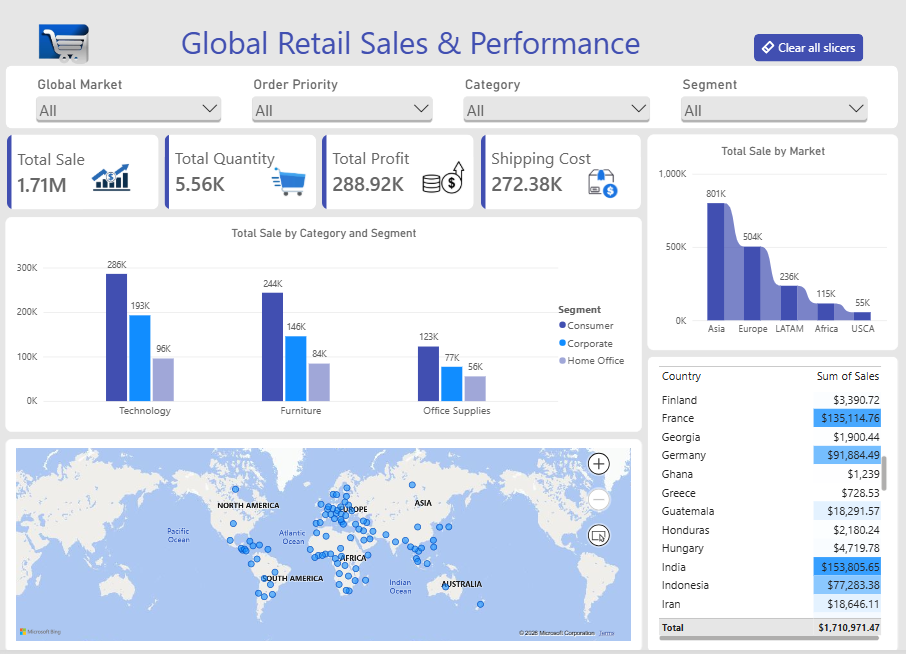

The dashboard page shown, as its layout file describes it:
{"tool":"powerbi","page":{"name":"Page 1","canvas":[1920,1020],"ordinal":0},"visuals":[{"type":"shape","box":[25.8,105.6,1396,98.5],"z":0},{"type":"slicer","title":"Global Market ","fields":{"Values":["Global_Superstore(CSV).Market"]},"box":[68,122,300.3,126.7],"z":1000},{"type":"cardVisual","fields":{"Data":["Global_Superstore(CSV).Total sale"]},"box":[28.2,213.5,237,117],"z":2000},{"type":"cardVisual","fields":{"Data":["Global_Superstore(CSV).Total Profit"]},"box":[520.9,213.5,237,117],"z":3000},{"type":"cardVisual","fields":{"Data":["Global_Superstore(CSV).total Quantity (K)"]},"box":[274.5,213.5,237,117],"z":4000},{"type":"clusteredColumnChart","title":"Total Sale by Category and Segment","fields":{"Category":["Global_Superstore(CSV).Category"],"Series":["Global_Superstore(CSV).Segment"],"Y":["Global_Superstore(CSV).Total sale"]},"box":[25.8,342.5,995,336],"z":5000},{"type":"columnChart","title":"Total Sale by Market","fields":{"Category":["Global_Superstore(CSV).Market"],"Y":["Global_Superstore(CSV).Total sale"]},"box":[1030,213.5,391.8,337],"z":6000},{"type":"tableEx","fields":{"Values":["Global_Superstore(CSV).Country","Sum(Global_Superstore(CSV).Sales)"]},"box":[1030,560.7,391.8,462.2],"z":7000},{"type":"slicer","title":"Category","fields":{"Values":["Global_Superstore(CSV).Category"]},"box":[735.9,121.2,302.7,126.7],"z":8000},{"type":"slicer","title":"Order Priority","fields":{"Values":["Global_Superstore(CSV).Order Priority"]},"box":[405.9,122,293.3,124.4],"z":9000},{"type":"slicer","title":"Segment","fields":{"Values":["Global_Superstore(CSV).Segment"]},"box":[1076.9,122,302.7,126.7],"z":10000},{"type":"actionButton","box":[1196.6,56.3,171,43],"z":11000},{"type":"map","fields":{"Category":["Global_Superstore(CSV).Country"]},"box":[25.8,689.8,995,333],"z":12000},{"type":"textbox","box":[300.3,35.2,739.1,72.7],"z":13000},{"type":"image","box":[23.5,11.7,192.4,115],"z":14000},{"type":"cardVisual","fields":{"Data":["Global_Superstore(CSV).Total Shipping cost"]},"box":[769.6,213.5,250,117],"z":15000},{"type":"image","box":[147.8,239.3,89.2,82.1],"z":15001},{"type":"image","box":[640.5,222.9,140.8,115],"z":15003},{"type":"image","box":[429.4,258.1,82.1,56.3],"z":15005},{"type":"image","box":[929.1,267.5,63.3,46.9],"z":15006}]}

Visuals, with their boxes on the page's 1920x1020 design canvas (x1, y1, x2, y2). These are canvas units, not pixel positions in the 906x654 screenshot, which may show the page scaled, cropped or inside an application window:
shape: BBox(26, 106, 1422, 204)
"Global Market " slicer: BBox(68, 122, 368, 249)
cardVisual - Global_Superstore(CSV).Total sale: BBox(28, 214, 265, 330)
cardVisual - Global_Superstore(CSV).Total Profit: BBox(521, 214, 758, 330)
cardVisual - Global_Superstore(CSV).total Quantity (K): BBox(274, 214, 512, 330)
"Total Sale by Category and Segment" clusteredColumnChart: BBox(26, 342, 1021, 678)
"Total Sale by Market" columnChart: BBox(1030, 214, 1422, 550)
tableEx - Global_Superstore(CSV).Country x Sum(Global_Superstore(CSV).Sales): BBox(1030, 561, 1422, 1023)
"Category" slicer: BBox(736, 121, 1039, 248)
"Order Priority" slicer: BBox(406, 122, 699, 246)
"Segment" slicer: BBox(1077, 122, 1380, 249)
actionButton: BBox(1197, 56, 1368, 99)
map - Global_Superstore(CSV).Country: BBox(26, 690, 1021, 1023)
textbox: BBox(300, 35, 1039, 108)
image: BBox(24, 12, 216, 127)
cardVisual - Global_Superstore(CSV).Total Shipping cost: BBox(770, 214, 1020, 330)
image: BBox(148, 239, 237, 321)
image: BBox(640, 223, 781, 338)
image: BBox(429, 258, 512, 314)
image: BBox(929, 268, 992, 314)
